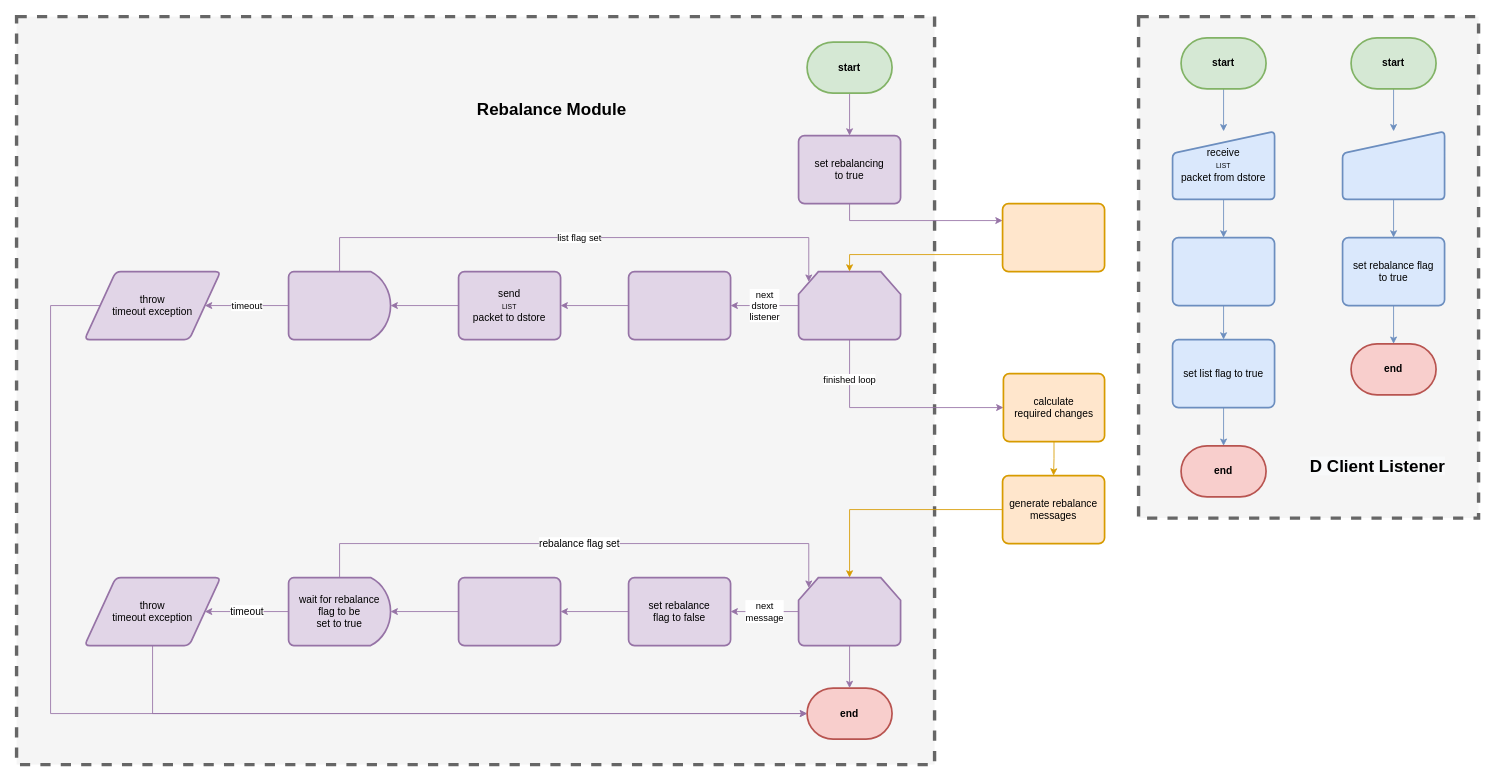
Some shapes in this 1494 by 780 pixel diagram are drawn without their labels. The centre of each missing label's shape, as x and y in pixels:
"add file list to rebalance algorithm" goes at point 1223,271.
"loop through dstores listeners" goes at point 849,305.
"loop through each rebalance message" goes at point 849,611.
"receive REBALANCE_COMPLETE packet from dstore" goes at point 1393,165.
"send rebalance message to the corresponding dstore" goes at point 509,611.
"set list flag to false" goes at point 679,305.
"setup rebalance algorithm" goes at point 1053,237.
"wait for list flag to be set" goes at point 339,305.
